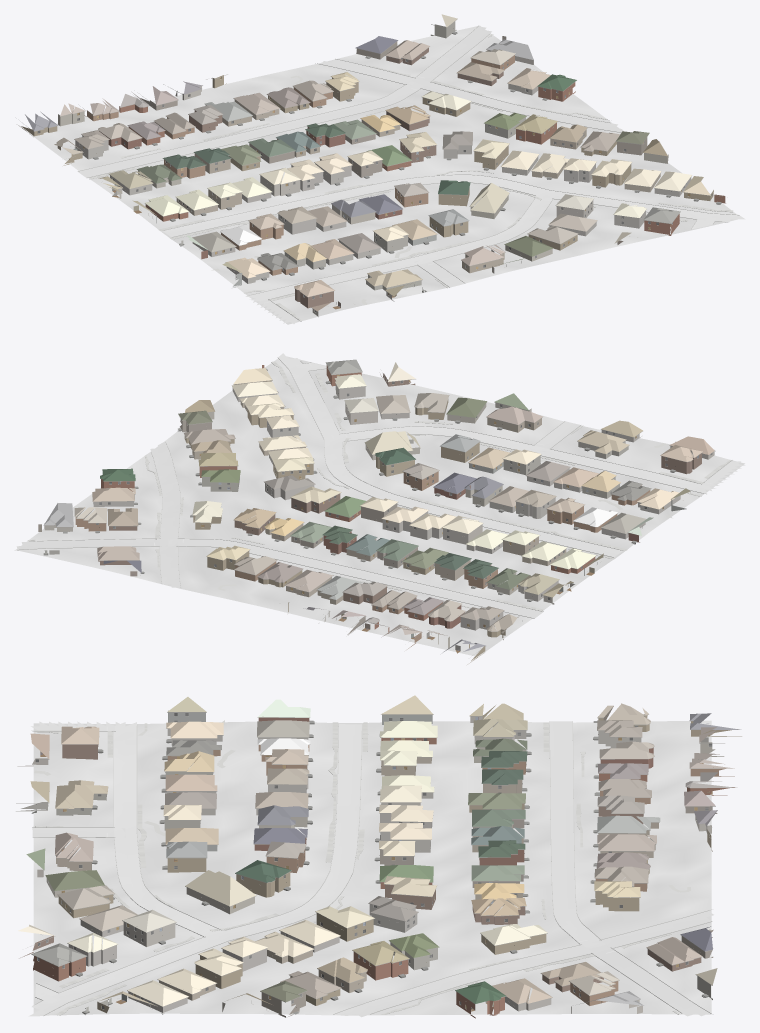
3 renders of one model, top to bottom at view 1: azimuth 30°, elevation 25°; view 2: azimuth 150°, elevation 25°; view 3: azimuth 270°, elevation 25°, orthographic. The views are drawn at different scales.
Visible parts, largest first — view 1: ground, roof, concrete, wall, detail, wall_stucco, wall_stone, curb, walk, glass; view 2: ground, roof, concrete, wall, detail, wall_stone, wall_stucco, curb, walk, glass; view 3: ground, roof, concrete, wall, detail, wall_stucco, wall_stone, walk, curb, glass.
Part boxes in pixels (x1=…): ground: x1=26, y1=25, x2=738, y2=324; roof: x1=25, y1=14, x2=710, y2=311; concrete: x1=78, y1=26, x2=745, y2=323; wall: x1=18, y1=36, x2=725, y2=308; detail: x1=28, y1=19, x2=722, y2=312; wall_stucco: x1=58, y1=21, x2=668, y2=316; wall_stone: x1=75, y1=84, x2=691, y2=301; curb: x1=78, y1=25, x2=739, y2=321; walk: x1=89, y1=34, x2=733, y2=320; glass: x1=37, y1=58, x2=712, y2=312; ground: x1=16, y1=356, x2=744, y2=656; roof: x1=44, y1=359, x2=714, y2=652; concrete: x1=16, y1=353, x2=745, y2=618; wall: x1=38, y1=365, x2=701, y2=664; detail: x1=43, y1=364, x2=715, y2=655; wall_stone: x1=93, y1=381, x2=680, y2=630; wall_stucco: x1=44, y1=401, x2=714, y2=648; curb: x1=15, y1=357, x2=732, y2=618; walk: x1=27, y1=361, x2=730, y2=610; glass: x1=96, y1=367, x2=711, y2=619; ground: x1=33, y1=720, x2=711, y2=1015; roof: x1=18, y1=695, x2=741, y2=1006; concrete: x1=28, y1=721, x2=713, y2=1017; wall: x1=19, y1=714, x2=741, y2=1018; detail: x1=16, y1=712, x2=724, y2=1014; wall_stucco: x1=17, y1=710, x2=724, y2=1013; wall_stone: x1=16, y1=729, x2=641, y2=1014; walk: x1=33, y1=720, x2=690, y2=1015; curb: x1=31, y1=721, x2=712, y2=1015; glass: x1=35, y1=713, x2=712, y2=1009.
Bounding box in the file's own units: 259 × 12.13 × 270.
